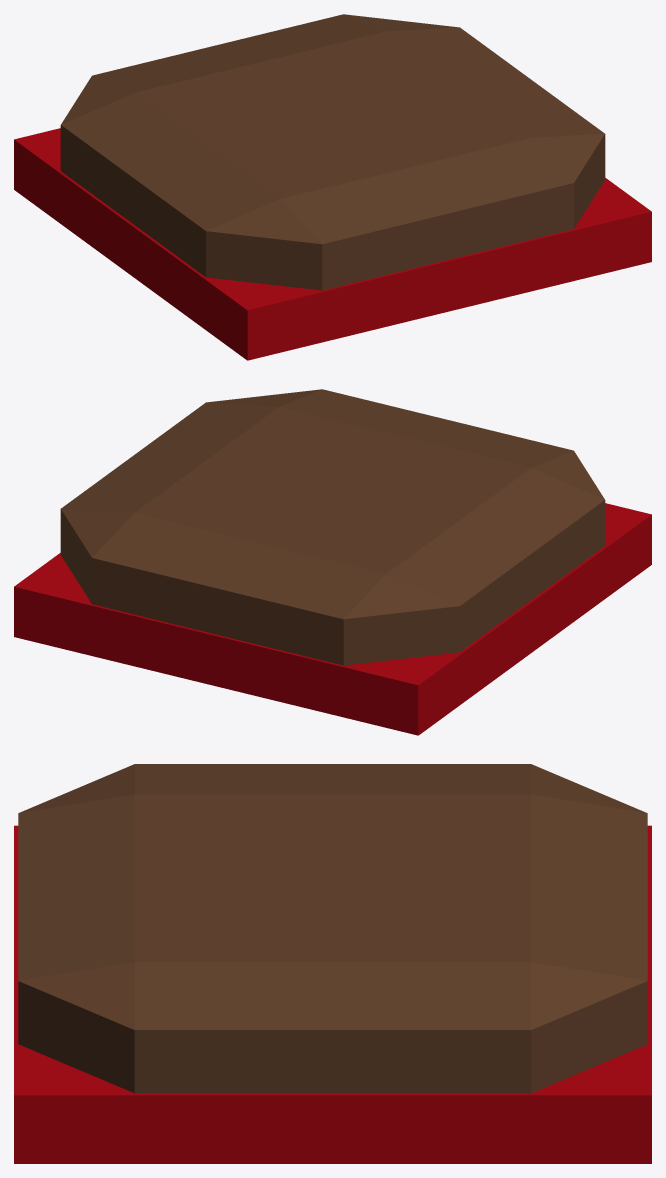
File: spring.fbx
3 renders of one model, top to bottom at view 1: azimuth 30°, elevation 25°; view 2: azimuth 150°, elevation 25°; view 3: azimuth 270°, elevation 25°, orthographic. The views are drawn at different scales.
Visible parts, largest first — view 1: Cube.001, Cube; view 2: Cube.001, Cube; view 3: Cube.001, Cube.
Part boxes in pixels (x1=…): Cube.001: x1=60, y1=14, x2=605, y2=290; Cube: x1=14, y1=128, x2=651, y2=360; Cube.001: x1=60, y1=389, x2=605, y2=665; Cube: x1=14, y1=503, x2=651, y2=735; Cube.001: x1=18, y1=764, x2=647, y2=1093; Cube: x1=14, y1=825, x2=651, y2=1163.
Bounding box in the file's own units: 200 × 52.21 × 200.
